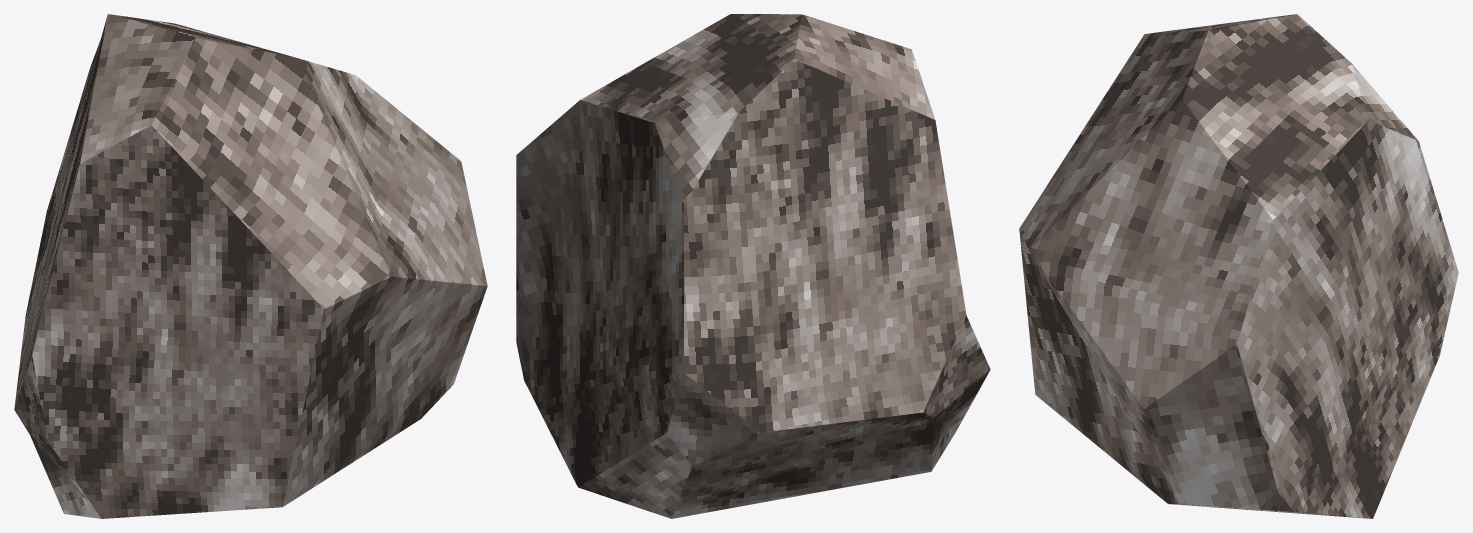
The model's file is rock_4.fbx.
3 views of the same model, side by side, from view 1: azimuth 30°, elevation 25°; view 2: azimuth 150°, elevation 25°; view 3: azimuth 270°, elevation 25° (orthographic). The views are drawn at different scales.
Parts seen in each view (by area): view 1: rock_4_LOD0; view 2: rock_4_LOD0; view 3: rock_4_LOD0.
Boxes of the visible parts, box(x1,y1,x2,y2) form: rock_4_LOD0: box(14, 14, 487, 518); rock_4_LOD0: box(516, 14, 990, 518); rock_4_LOD0: box(1019, 14, 1458, 518).
Size of what is drawn, in the model's own units: 343 by 340 by 313.
